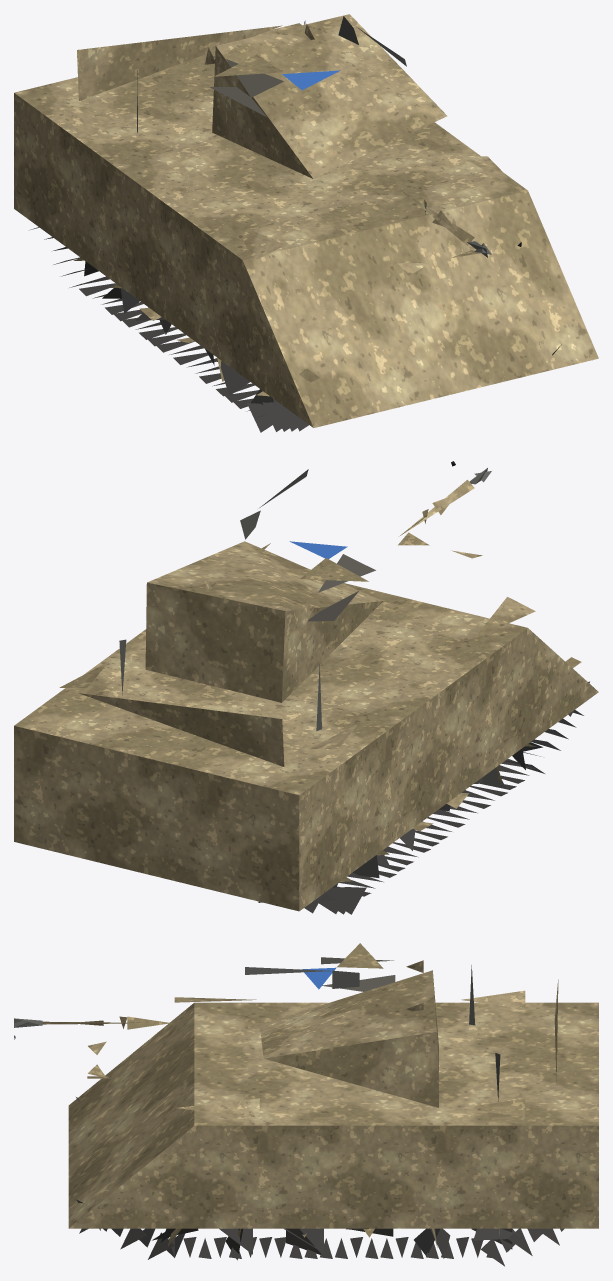
File: afv_e4_us_ifv_LOD2.glb
The picture shows the model from 3 angles, top to bottom: view 1: azimuth 30°, elevation 25°; view 2: azimuth 150°, elevation 25°; view 3: azimuth 270°, elevation 25°; orthographic projection. The views are drawn at different scales.
Visible parts, largest first — view 1: afv_e4_us_ifv_LOD2_body, afv_e4_us_ifv_LOD2_track, afv_e4_us_ifv_LOD2_deck, afv_e4_us_ifv_LOD2_gun, afv_e4_us_ifv_LOD2_team; view 2: afv_e4_us_ifv_LOD2_body, afv_e4_us_ifv_LOD2_track, afv_e4_us_ifv_LOD2_gun, afv_e4_us_ifv_LOD2_deck; view 3: afv_e4_us_ifv_LOD2_body, afv_e4_us_ifv_LOD2_track, afv_e4_us_ifv_LOD2_gun, afv_e4_us_ifv_LOD2_deck.
Part boxes in pixels (left/top/right/bottom): afv_e4_us_ifv_LOD2_body: left=14, top=14, right=598, bottom=427; afv_e4_us_ifv_LOD2_track: left=29, top=227, right=561, bottom=432; afv_e4_us_ifv_LOD2_deck: left=210, top=59, right=283, bottom=117; afv_e4_us_ifv_LOD2_gun: left=137, top=16, right=491, bottom=257; afv_e4_us_ifv_LOD2_team: left=282, top=70, right=340, bottom=90; afv_e4_us_ifv_LOD2_body: left=14, top=480, right=598, bottom=911; afv_e4_us_ifv_LOD2_track: left=258, top=681, right=589, bottom=914; afv_e4_us_ifv_LOD2_gun: left=119, top=468, right=491, bottom=730; afv_e4_us_ifv_LOD2_deck: left=307, top=554, right=375, bottom=621; afv_e4_us_ifv_LOD2_body: left=42, top=943, right=598, bottom=1247; afv_e4_us_ifv_LOD2_track: left=76, top=1097, right=564, bottom=1266; afv_e4_us_ifv_LOD2_gun: left=14, top=965, right=500, bottom=1101; afv_e4_us_ifv_LOD2_deck: left=321, top=957, right=395, bottom=991.
Size of the model in its own units: 3.6 by 3.53 by 7.23.
Materials: 6 (1 with a texture image).
